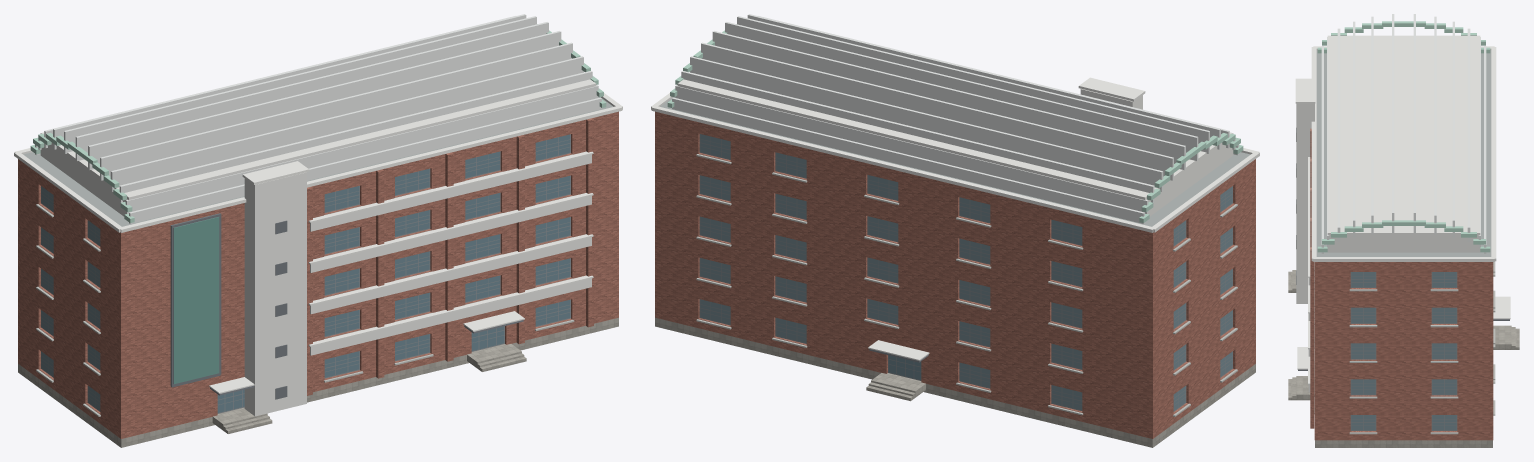
3 views of the same model, side by side, from view 1: azimuth 30°, elevation 25°; view 2: azimuth 150°, elevation 25°; view 3: azimuth 270°, elevation 25° (orthographic). The views are drawn at different scales.
Visible parts, largest first — view 1: songsangwan__redbrick, songsangwan__archroof, songsangwan__panel, songsangwan__glass, songsangwan__cap, songsangwan__greenglass, songsangwan__frame, songsangwan__stone, songsangwan__sideglass, songsangwan__darkframe, songsangwan__roof, songsangwan__sill (+3 smaller); view 2: songsangwan__redbrick, songsangwan__archroof, songsangwan__sideglass, songsangwan__frame, songsangwan__panel, songsangwan__cap, songsangwan__stone, songsangwan__sill, songsangwan__roof, songsangwan__mint, songsangwan__stair-north-rear, songsangwan__glass; view 3: songsangwan__panel, songsangwan__redbrick, songsangwan__archroof, songsangwan__cap, songsangwan__roof, songsangwan__sideglass, songsangwan__mint, songsangwan__frame, songsangwan__stone, songsangwan__sill, songsangwan__threshold-north-rear, songsangwan__stair-east-front (+2 smaller).
Part boxes in pixels (box(x1,y1,x2,y2)): songsangwan__redbrick: box(18, 111, 618, 438); songsangwan__archroof: box(35, 14, 601, 223); songsangwan__panel: box(40, 73, 596, 416); songsangwan__glass: box(217, 134, 570, 412); songsangwan__cap: box(14, 93, 622, 393); songsangwan__greenglass: box(173, 217, 219, 384); songsangwan__frame: box(41, 134, 570, 413); songsangwan__stone: box(18, 317, 618, 447); songsangwan__sideglass: box(41, 186, 100, 410); songsangwan__darkframe: box(170, 213, 287, 399); songsangwan__roof: box(23, 97, 613, 226); songsangwan__sill: box(36, 154, 574, 416); songsangwan__redbrick: box(655, 111, 1255, 438); songsangwan__archroof: box(672, 14, 1238, 223); songsangwan__sideglass: box(700, 134, 1232, 410); songsangwan__frame: box(699, 134, 1232, 411); songsangwan__panel: box(677, 73, 1233, 216); songsangwan__cap: box(651, 77, 1259, 360); songsangwan__stone: box(655, 317, 1255, 447); songsangwan__sill: box(696, 154, 1237, 416); songsangwan__roof: box(660, 97, 1250, 226); songsangwan__mint: box(667, 24, 1243, 222); songsangwan__stair-north-rear: box(866, 379, 917, 401); songsangwan__glass: box(888, 355, 921, 379); songsangwan__panel: box(1296, 35, 1480, 392); songsangwan__redbrick: box(1310, 128, 1493, 440); songsangwan__archroof: box(1321, 14, 1486, 253); songsangwan__cap: box(1295, 46, 1510, 384); songsangwan__roof: box(1316, 50, 1491, 256); songsangwan__sideglass: box(1351, 272, 1456, 430); songsangwan__mint: box(1317, 21, 1490, 252); songsangwan__frame: box(1350, 272, 1457, 430); songsangwan__stone: box(1315, 440, 1492, 447); songsangwan__sill: box(1314, 261, 1495, 434); songsangwan__threshold-north-rear: box(1493, 325, 1507, 349); songsangwan__stair-east-front: box(1288, 376, 1300, 400).
Size of the model in its own units: 46.58 by 23.43 by 21.44.
15 materials, 2 textured.
